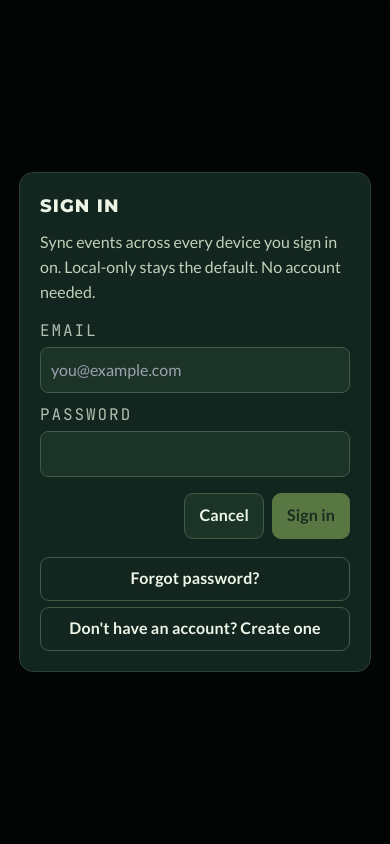
Test: password reset entry point › keeps the email field visible and sends a neutral recovery response
Click the button "Forgot password?" at (195, 579), box [40, 557, 350, 601]
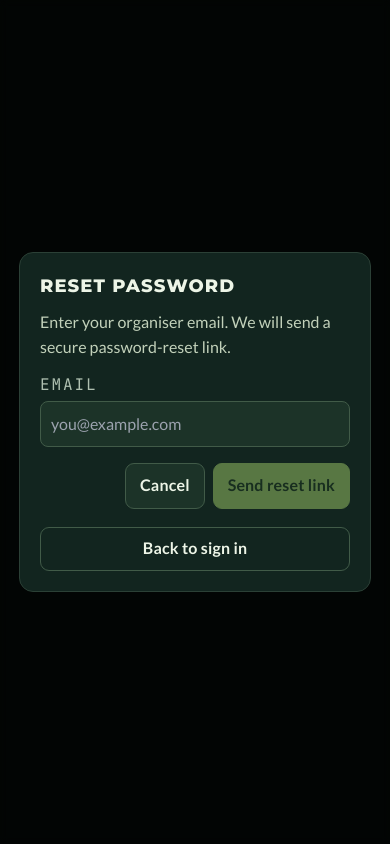
Type "organiser@example.com" into the field labelled "Email" at (195, 424), box [40, 401, 350, 447]
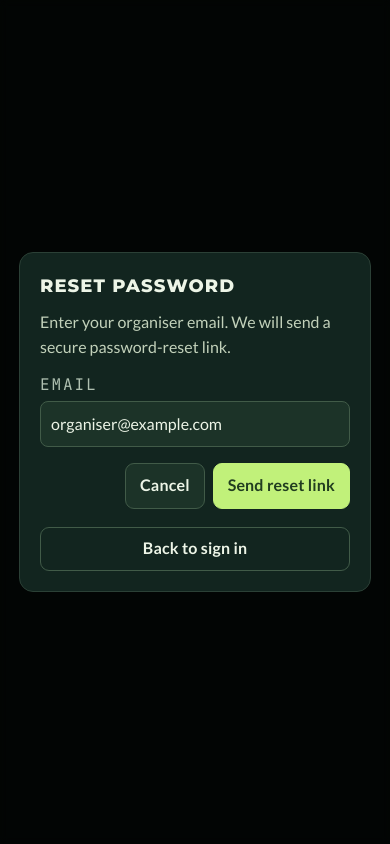
Click the button "Send reset link" at (281, 486), box [213, 463, 350, 509]
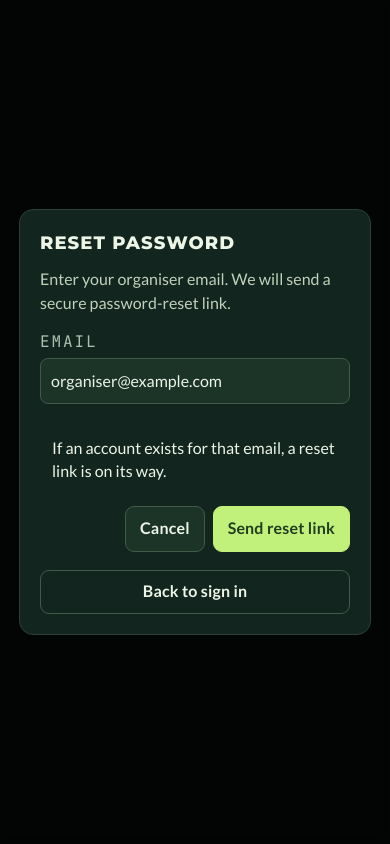
Expected: the text "If an account exists for that email, a reset link is on its way." is shown, [40, 426, 350, 492]
